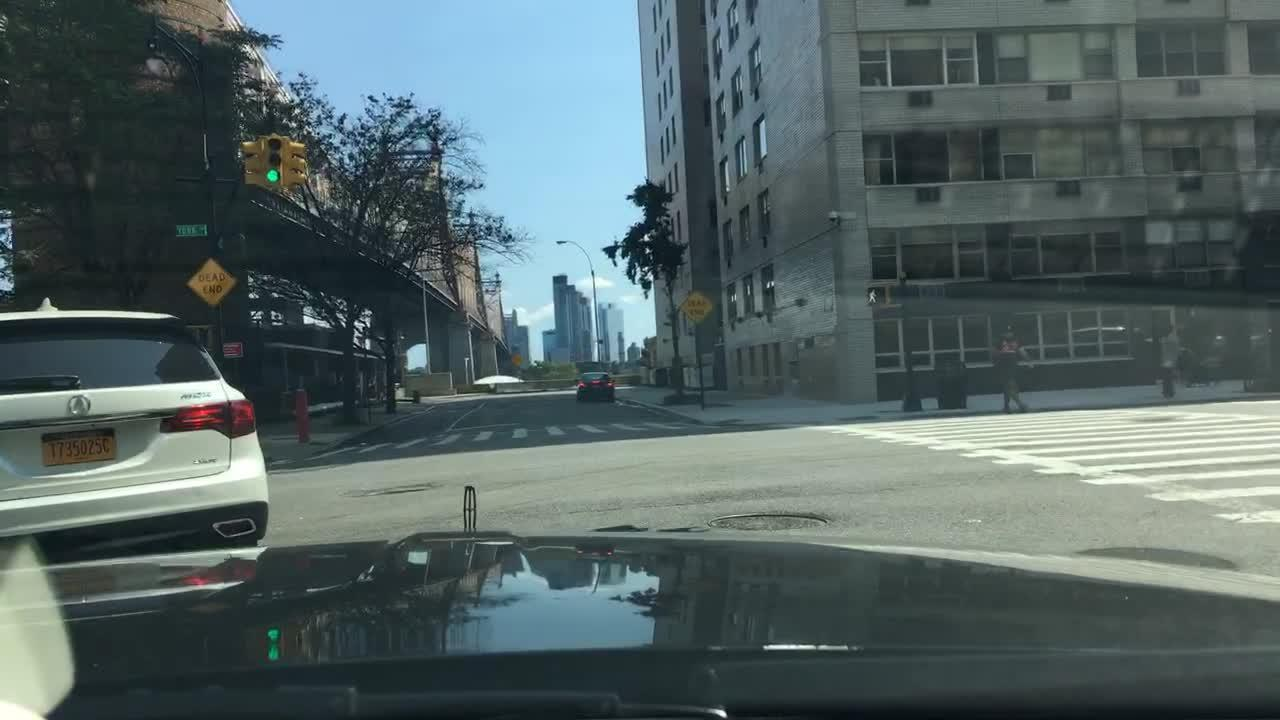acura: (63, 392, 97, 416)
lincoln: (455, 478, 486, 538)
